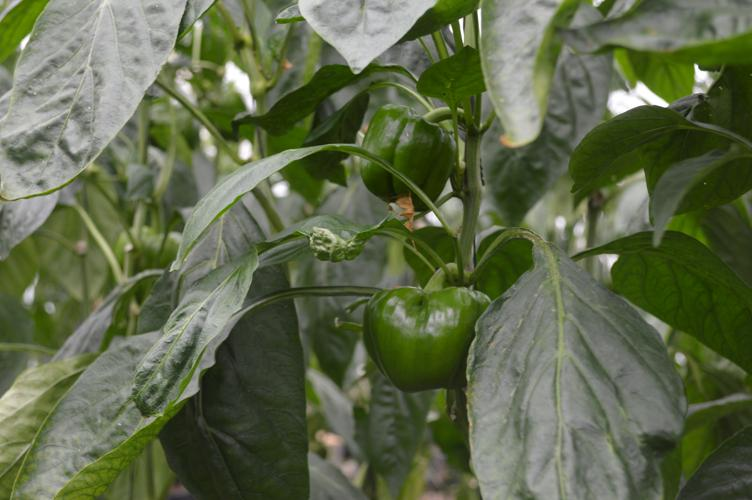BellPepper: (363, 289, 491, 393), (358, 106, 452, 207)
